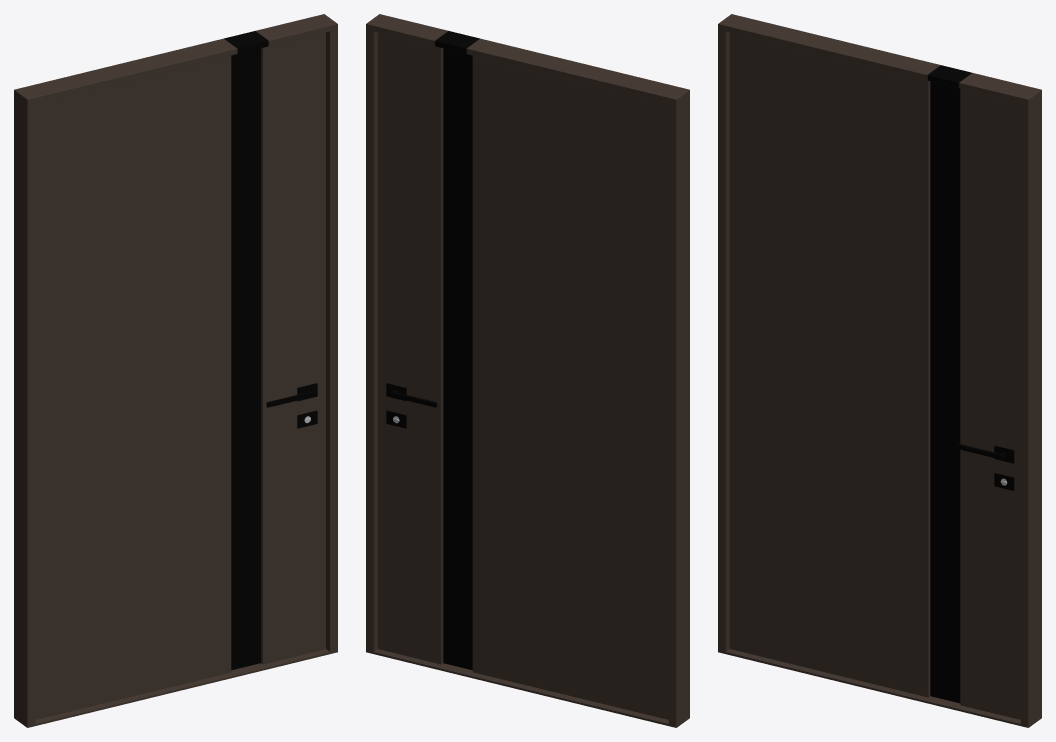
File: Door01.fbx
3 views of the same model, side by side, from view 1: azimuth 30°, elevation 25°; view 2: azimuth 150°, elevation 25°; view 3: azimuth 330°, elevation 25° (orthographic).
Visible parts, largest first — view 1: 1004Door01; view 2: 1004Door01; view 3: 1004Door01.
Part boxes in pixels (<box>): 1004Door01: <box>14,14,337,727</box>; 1004Door01: <box>366,14,689,727</box>; 1004Door01: <box>718,14,1041,727</box>.
Bounding box in the file's own units: 105 × 204 × 8.73.
